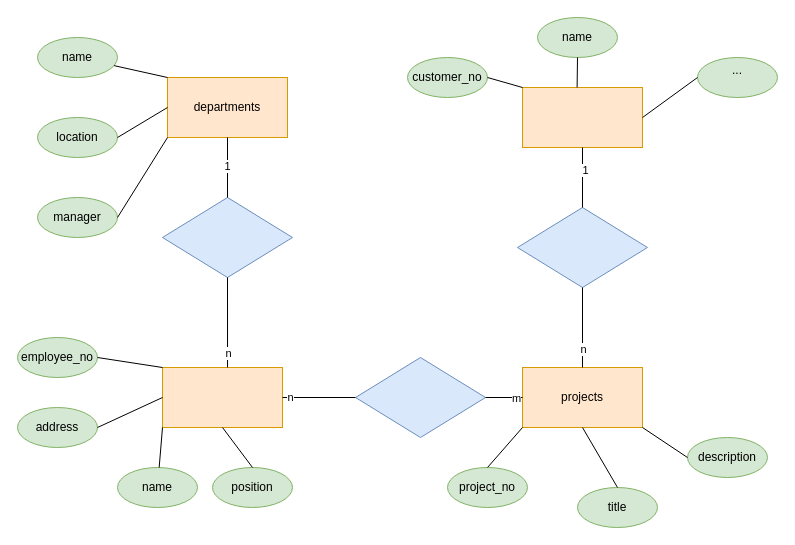
Image size: 795x545. Some labels were removed from this diagram. The shapes that lost their labels are listed below. From the top down, each one's box as (x1, y1, x2, y2) in pixels, then its label:
(522, 86, 642, 148): customer
(162, 196, 292, 278): belongs to
(516, 206, 648, 288): has a
(162, 366, 282, 428): employees
(354, 356, 486, 438): works on
